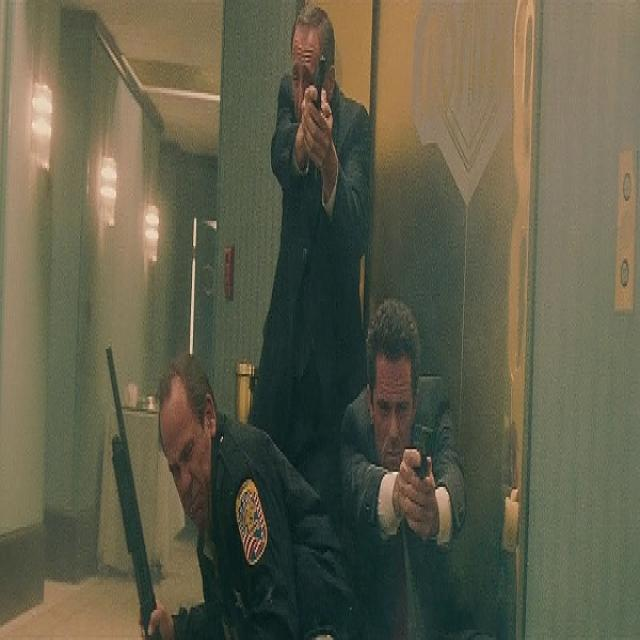rifle: (105, 337, 163, 640)
